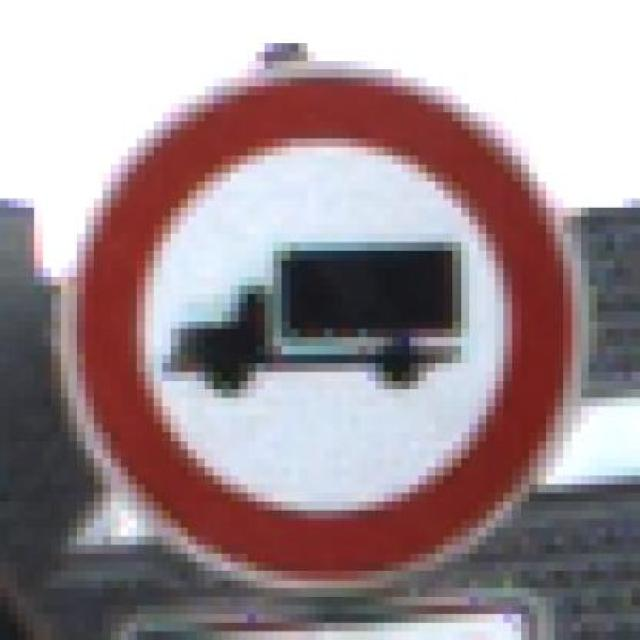Truck traffic is prohibited: (52, 34, 598, 606)
